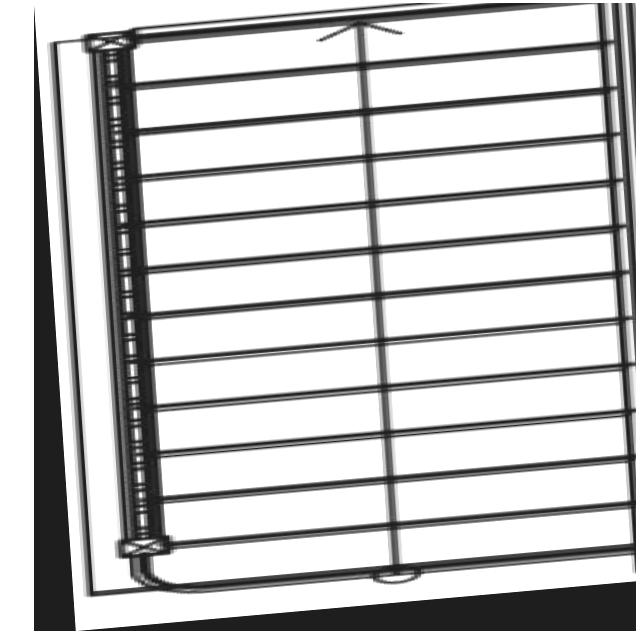stair: (34, 4, 636, 632)
